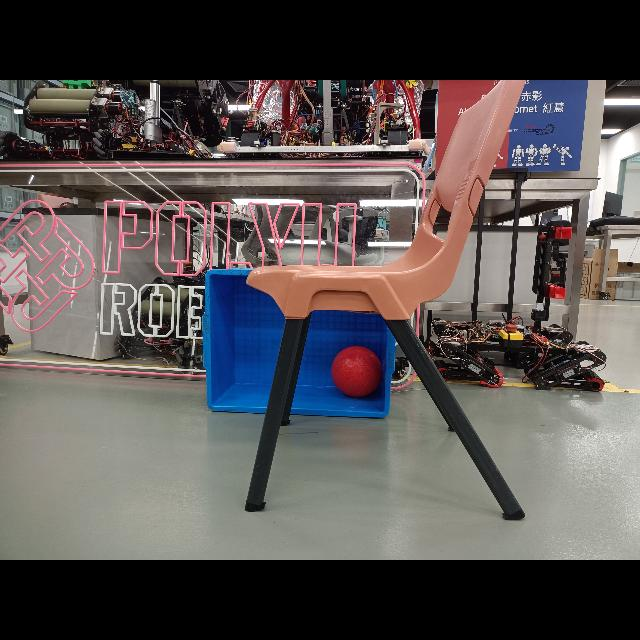R: (332, 346, 382, 396)
